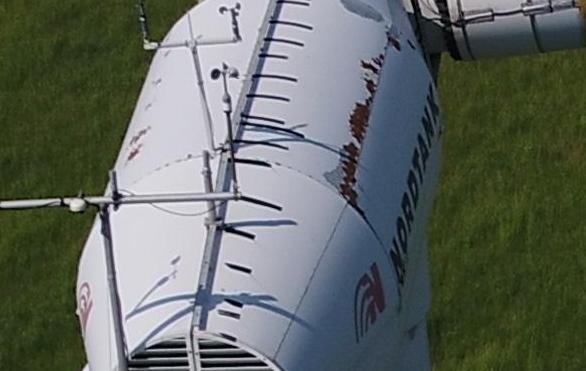damage: (340, 142, 360, 203), (348, 95, 371, 144), (126, 125, 151, 149), (360, 54, 384, 72), (361, 72, 376, 98), (351, 202, 368, 222), (127, 145, 143, 166), (387, 37, 401, 52), (407, 38, 416, 50), (163, 48, 172, 56), (145, 102, 152, 110), (155, 76, 161, 85)
